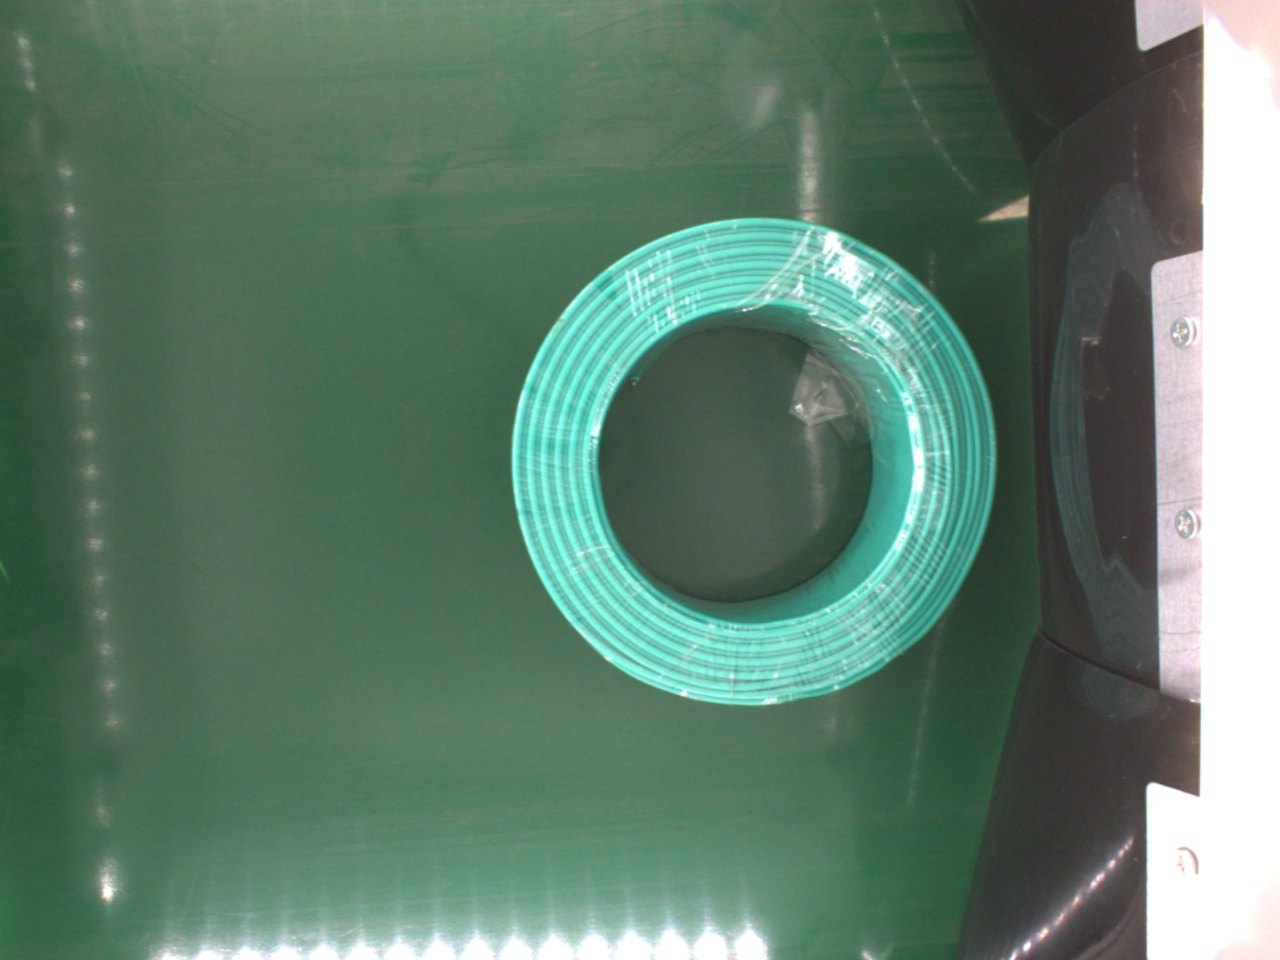green: (510, 215, 993, 710)
